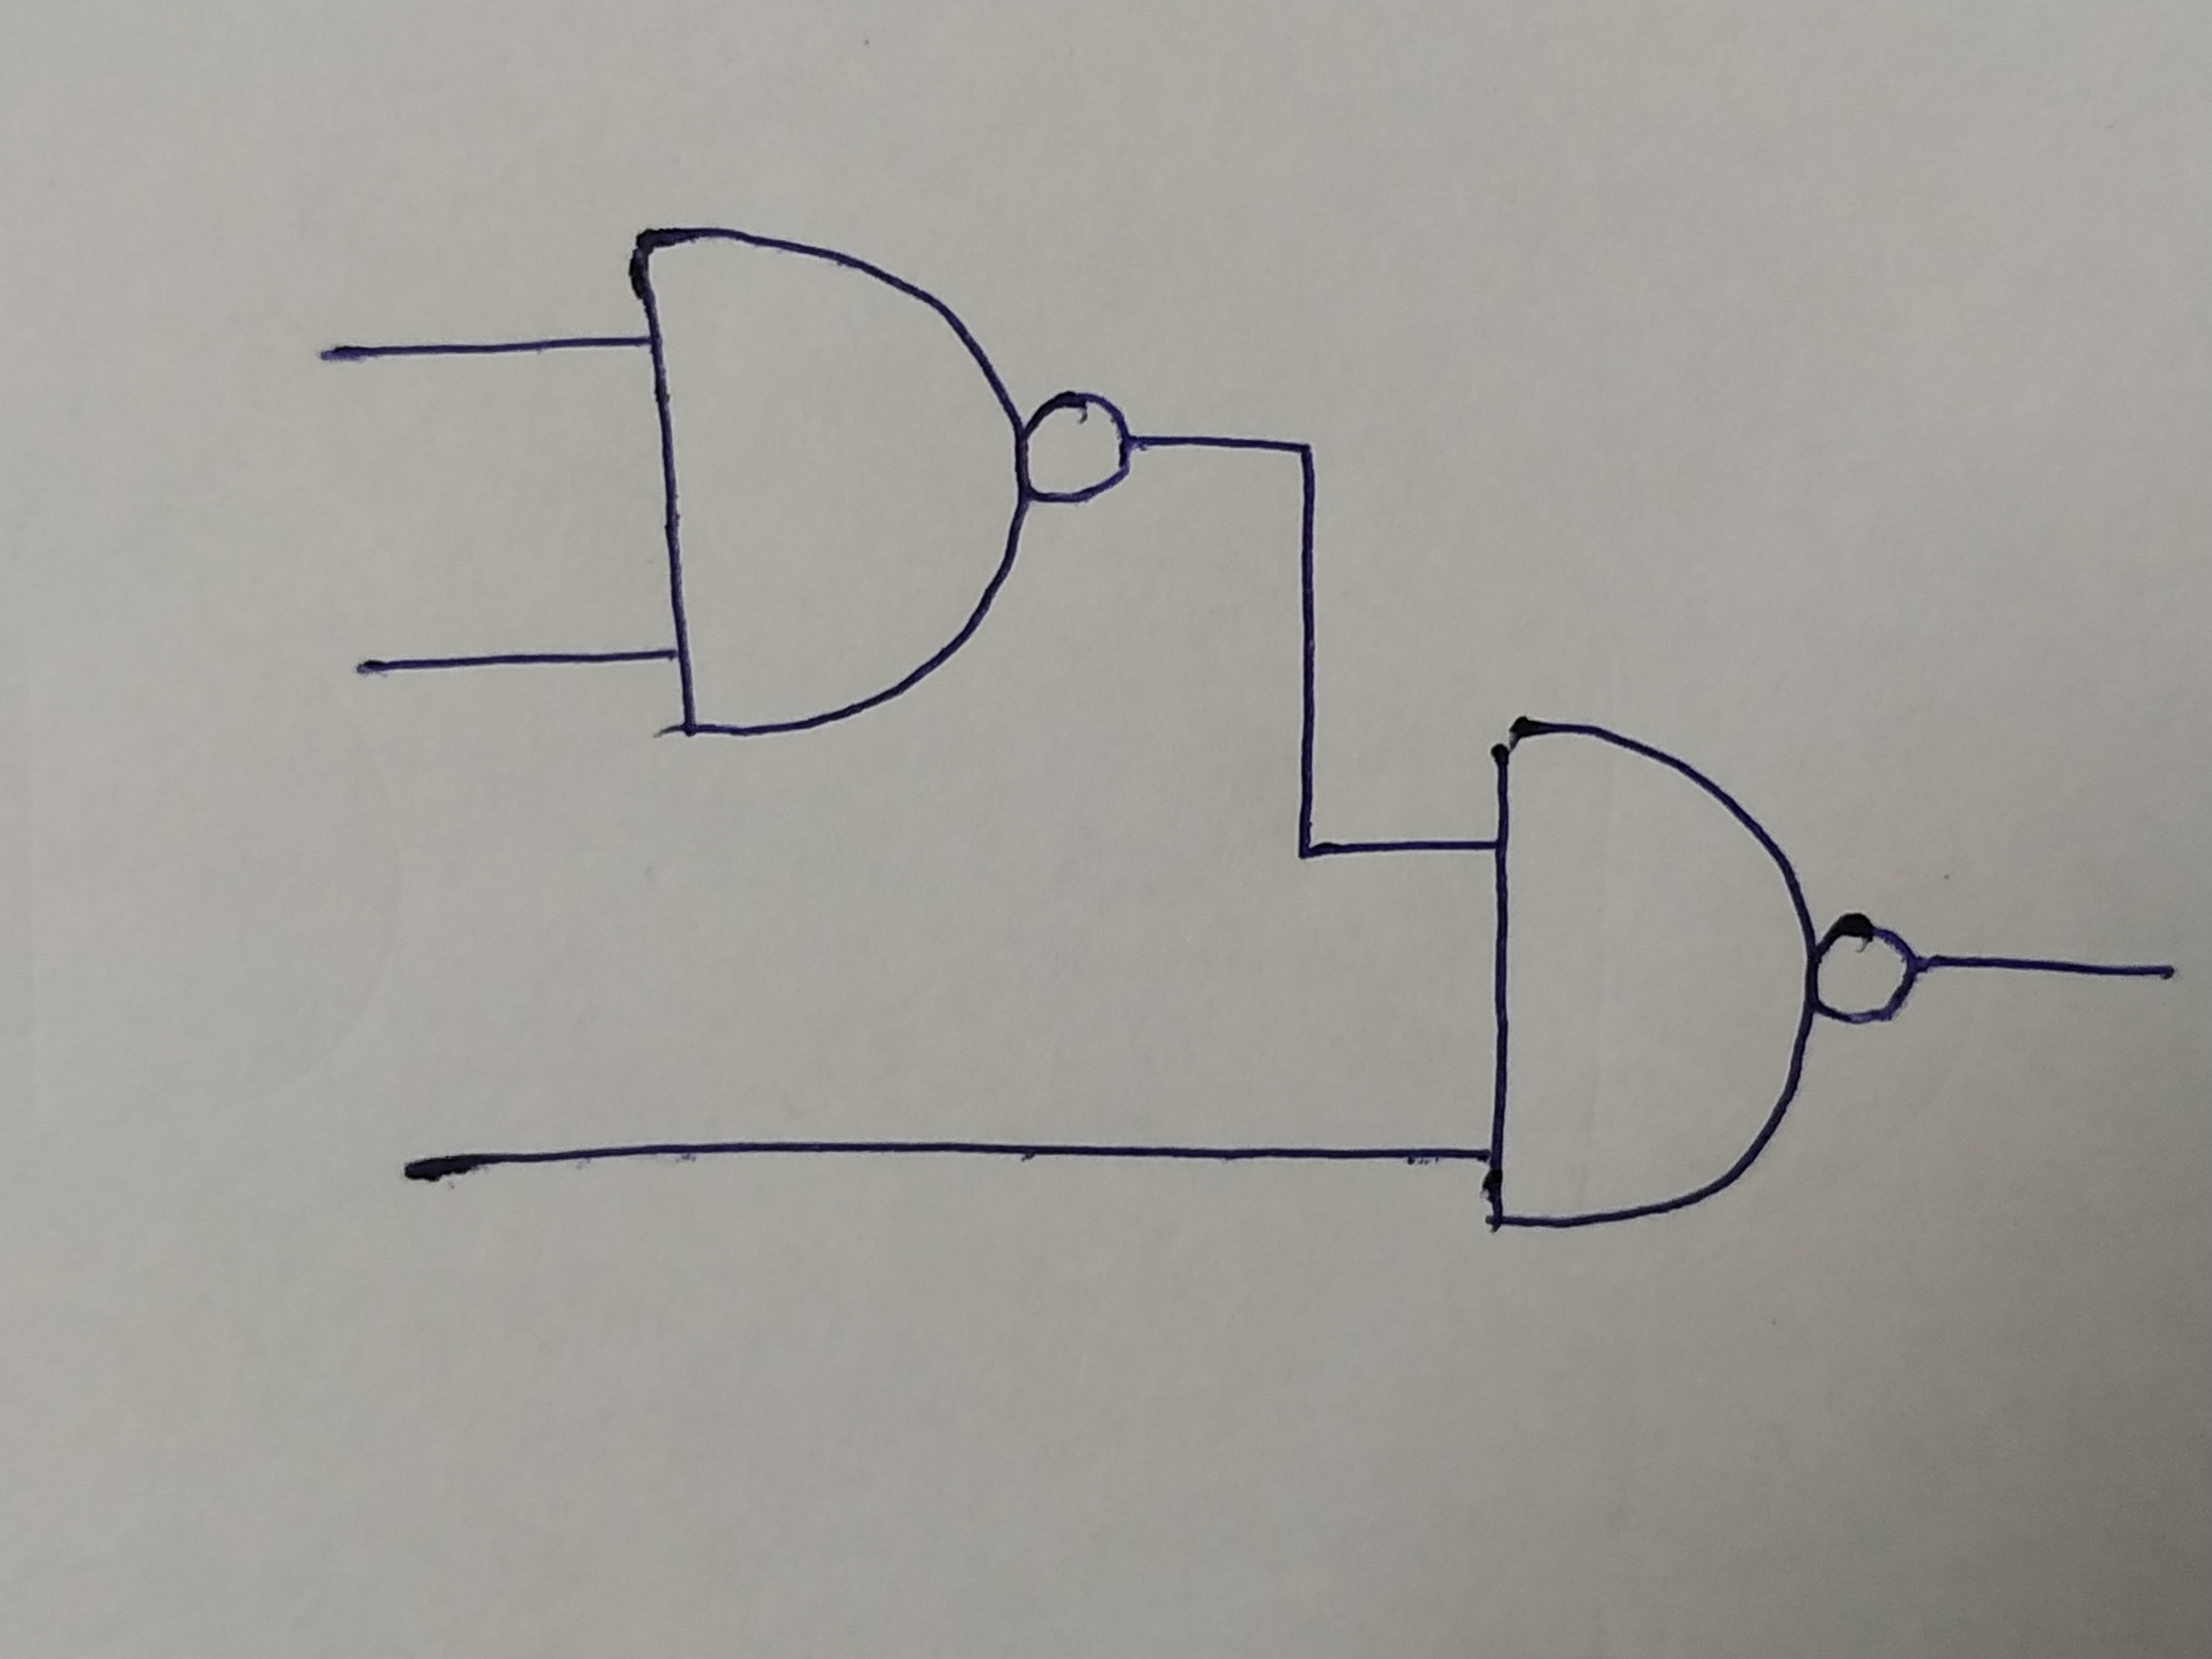and: (637, 225, 1029, 728), (1489, 718, 1820, 1237)
not: (1024, 397, 1132, 498), (1815, 917, 1918, 1021)
